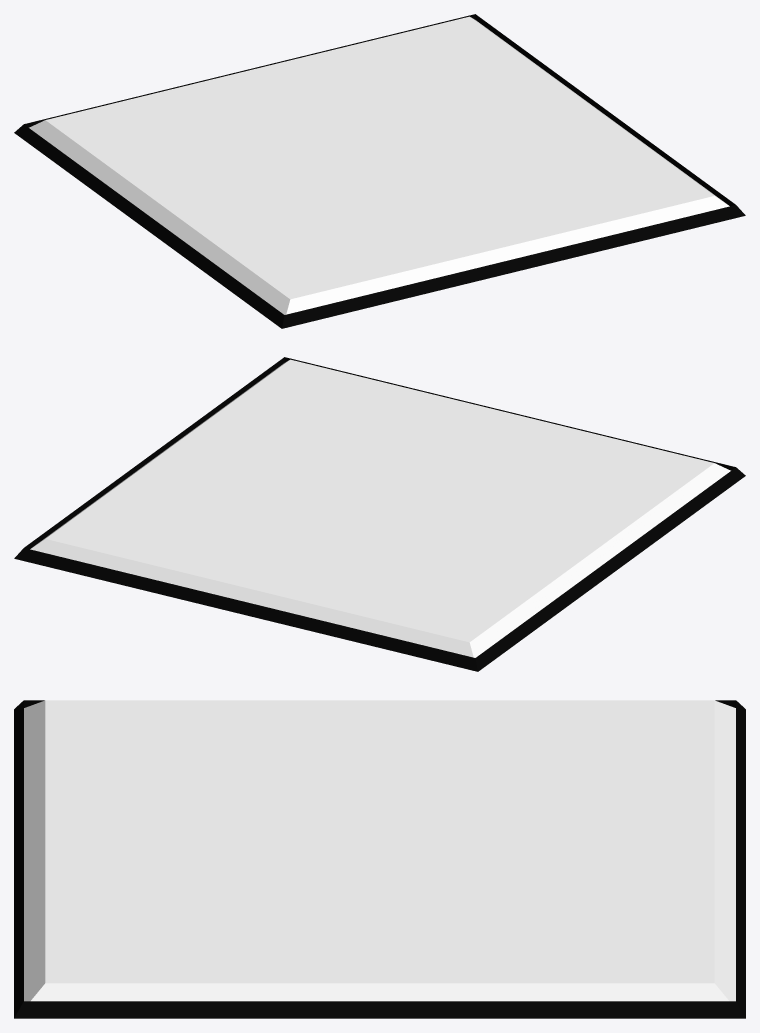
Rendered from Button Plain.fbx.
3 renders of one model, top to bottom at view 1: azimuth 30°, elevation 25°; view 2: azimuth 150°, elevation 25°; view 3: azimuth 270°, elevation 25°, orthographic. The views are drawn at different scales.
Parts seen in each view (by area): view 1: Cube; view 2: Cube; view 3: Cube.
Boxes of the visible parts, x1,y1,x2,y2 form: Cube: [14, 14, 745, 328]; Cube: [14, 357, 745, 671]; Cube: [14, 700, 745, 1018].
Size of the model in its own units: 200 by 6.7 by 200.
